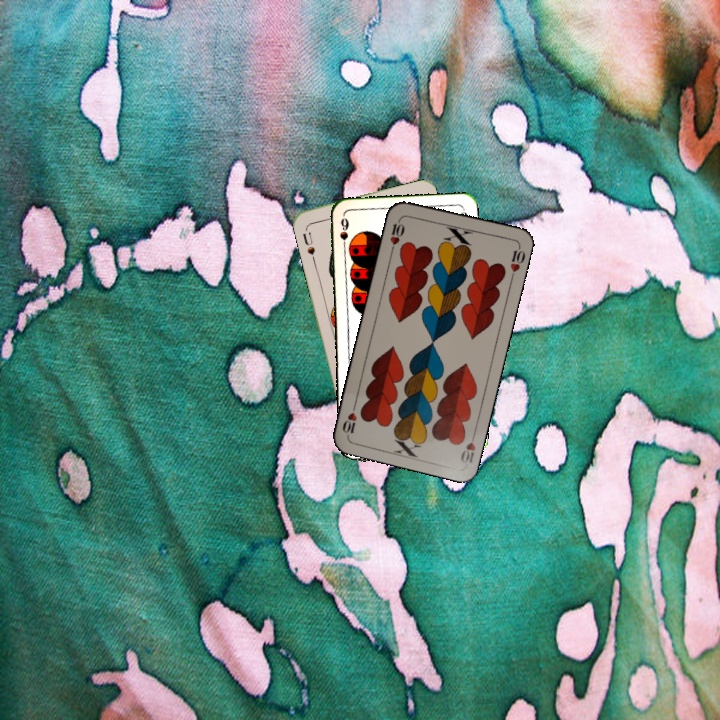H10: (456, 427, 479, 465), (386, 214, 407, 254)
S9: (336, 213, 351, 254)
SU: (298, 228, 318, 257)
